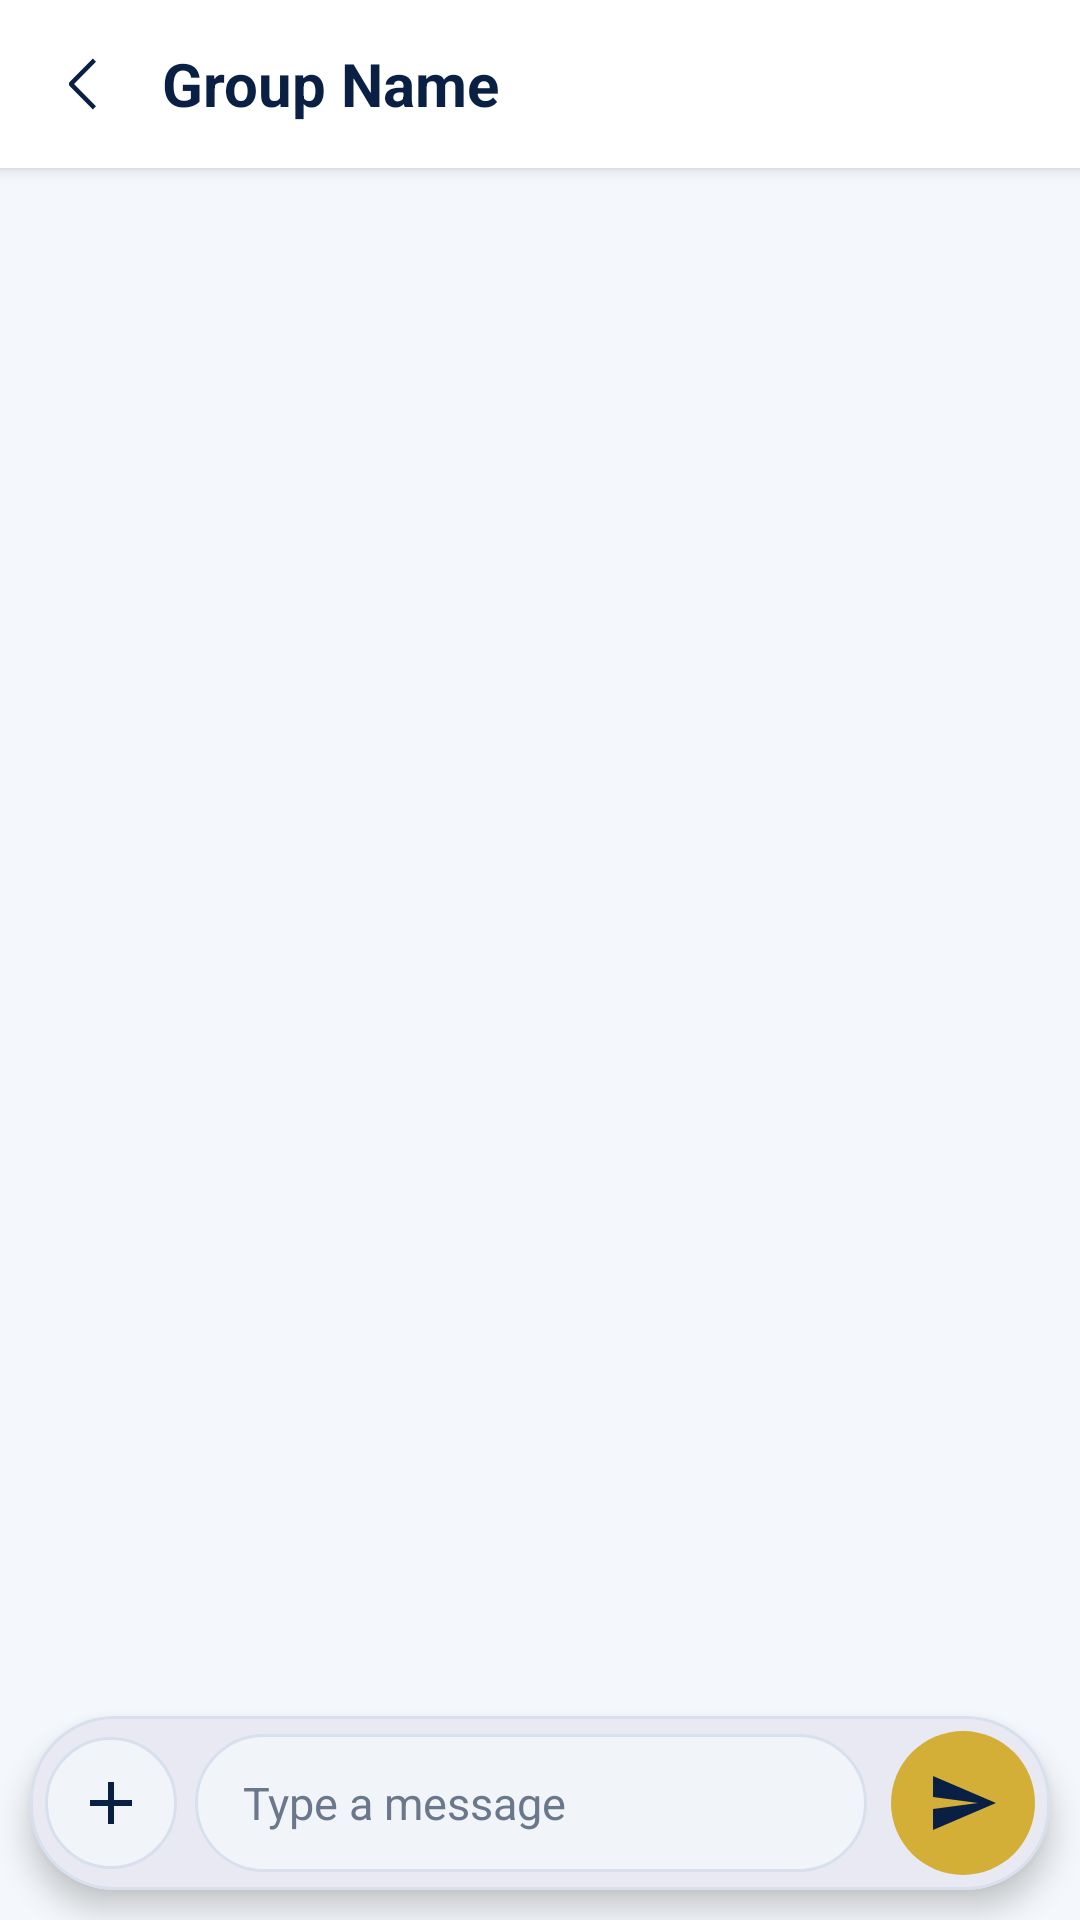

Locate icon controls on the screen. Image size 1080w x 1920h, boxes as (x1, y1, x2, y2).
Attach a file: (45, 1737, 177, 1869)
Back to chats: (69, 58, 96, 110)
Send message: (891, 1731, 1035, 1875)
